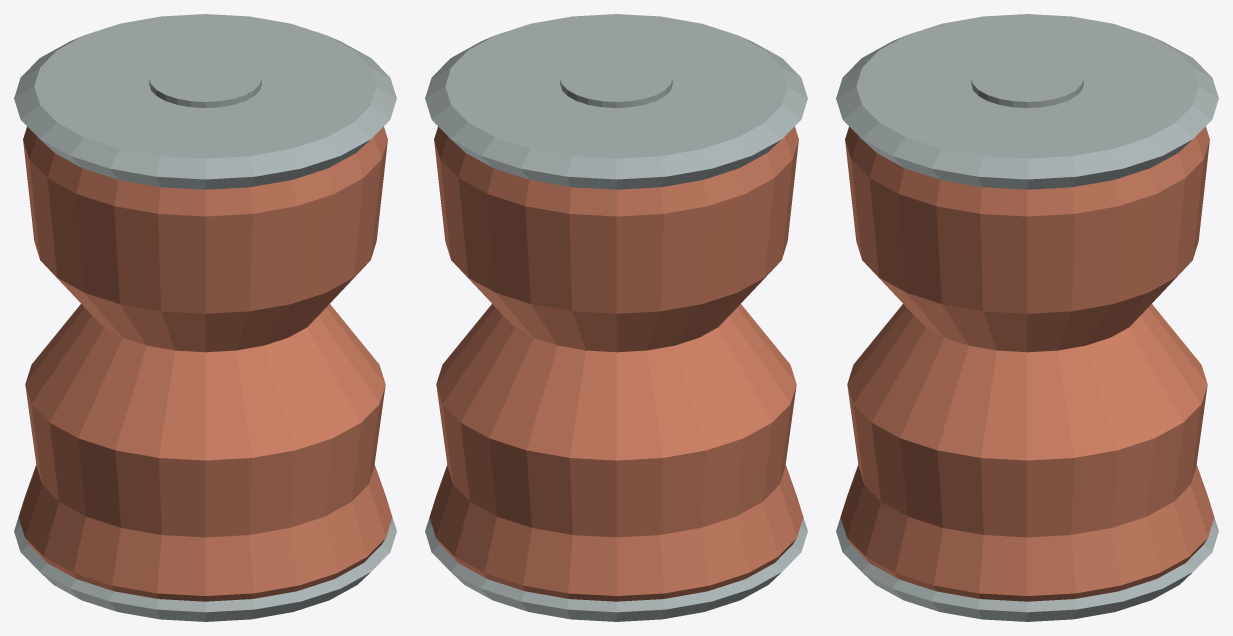
File: litter_can.glb
The picture shows the model from 3 angles, left to right: view 1: azimuth 30°, elevation 25°; view 2: azimuth 150°, elevation 25°; view 3: azimuth 270°, elevation 25°; orthographic projection.
Parts seen in each view (by area): view 1: Can crushed body, Can top rim, Can bottom rim, Can pull tab; view 2: Can crushed body, Can top rim, Can bottom rim, Can pull tab; view 3: Can crushed body, Can top rim, Can bottom rim, Can pull tab.
Boxes of the visible parts, x1,y1,x2,y2 form: Can crushed body: (18,126,392,601); Can top rim: (14,14,396,189); Can bottom rim: (14,517,396,621); Can pull tab: (149,54,261,107); Can crushed body: (429,126,803,601); Can top rim: (425,14,807,189); Can bottom rim: (425,517,807,621); Can pull tab: (560,54,672,107); Can crushed body: (840,126,1214,601); Can top rim: (836,14,1218,189); Can bottom rim: (836,517,1218,621); Can pull tab: (971,54,1083,107).
Size of the model in its own units: 0.17 by 0.23 by 0.17.
